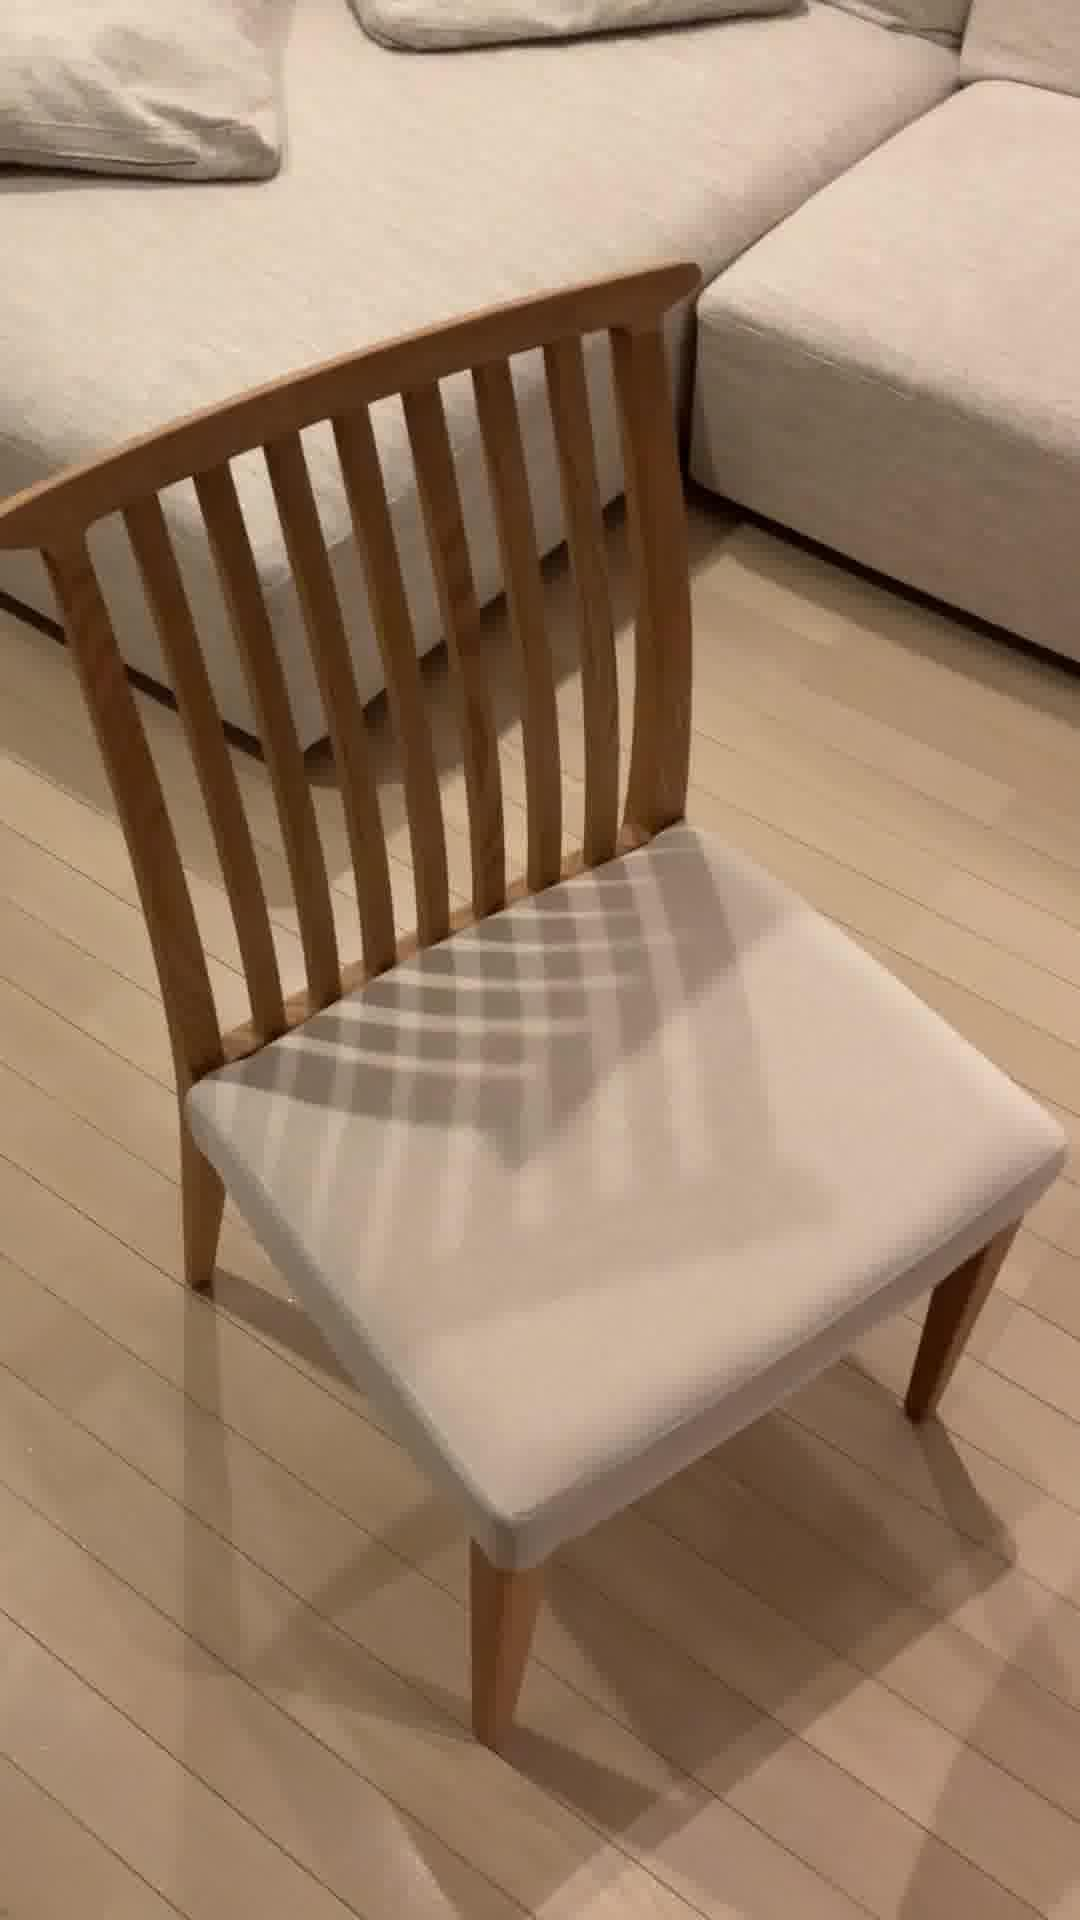takumikan-chair: (0, 256, 1080, 1747)
